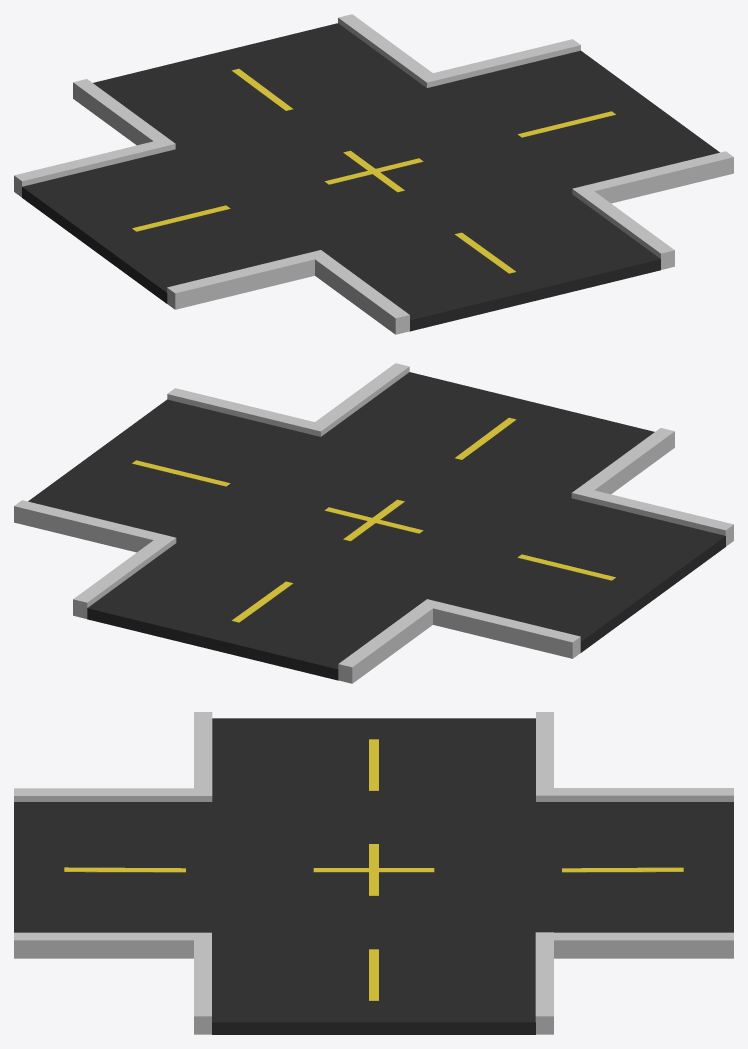
File: 4cornerRoad.fbx
3 views of the same model, one above another, from view 1: azimuth 30°, elevation 25°; view 2: azimuth 150°, elevation 25°; view 3: azimuth 270°, elevation 25° (orthographic). The views are drawn at different scales.
Parts seen in each view (by area): view 1: Cube.000; view 2: Cube.000; view 3: Cube.000.
Part boxes in pixels (x1,y1,x2,y2): Cube.000: [14, 14, 733, 334]; Cube.000: [14, 363, 733, 683]; Cube.000: [14, 712, 733, 1034].
Size of the model in its own units: 1600 by 45.52 by 1600.
